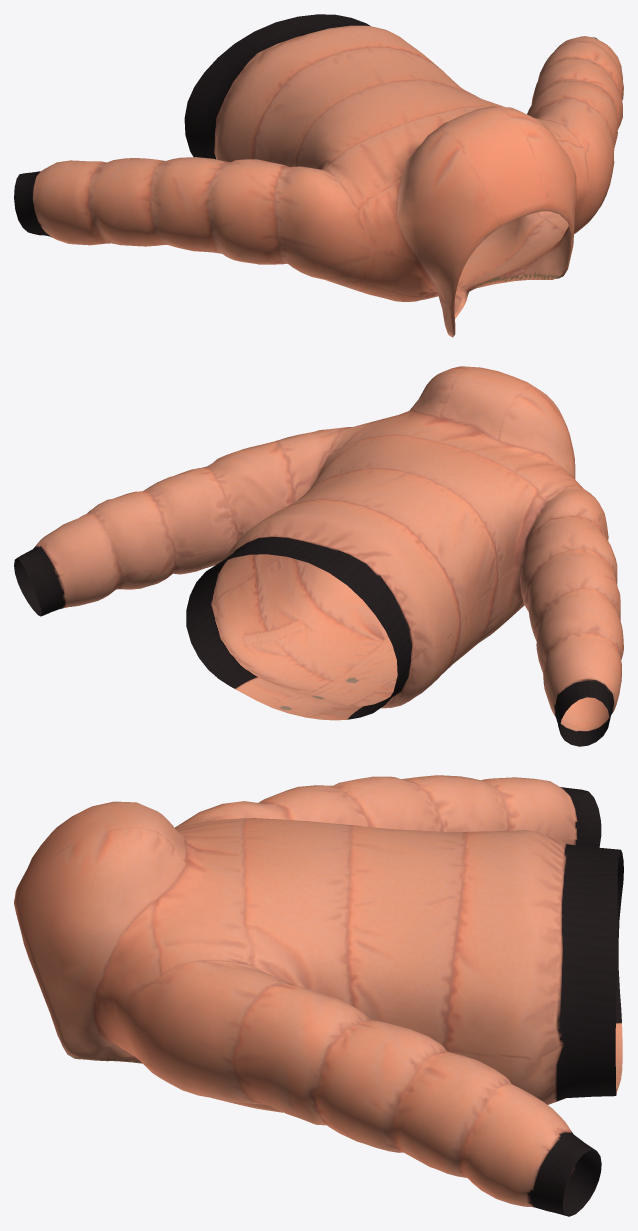
The model's file is garment.obj.
3 views of the same model, one above another, from view 1: azimuth 30°, elevation 25°; view 2: azimuth 150°, elevation 25°; view 3: azimuth 270°, elevation 25° (orthographic). The views are drawn at different scales.
Parts seen in each view (by area): view 1: Jacket_PufferCoat_001; view 2: Jacket_PufferCoat_001; view 3: Jacket_PufferCoat_001.
Boxes of the visible parts, x1,y1,x2,y2 form: Jacket_PufferCoat_001: [14, 14, 623, 337]; Jacket_PufferCoat_001: [14, 366, 623, 746]; Jacket_PufferCoat_001: [14, 775, 623, 1216].
Bounding box in the file's own units: 1.43 × 0.5047 × 0.9839.
Materials: 1 (1 with a texture image).
